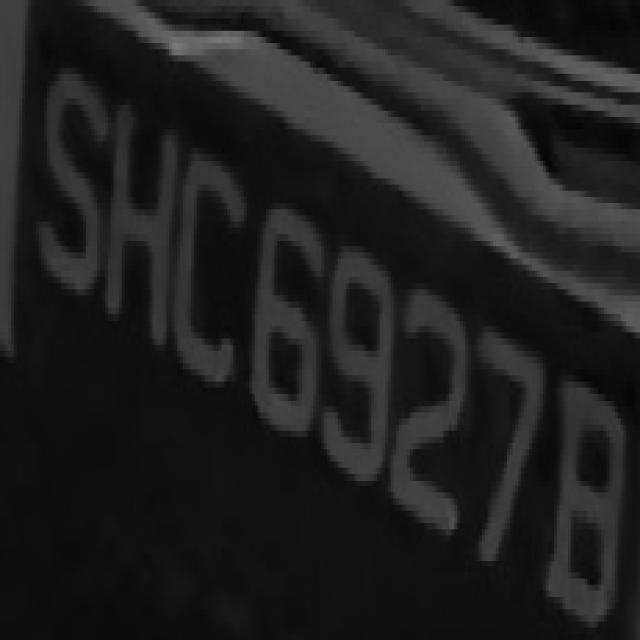2: (393, 252, 474, 560)
6: (250, 166, 322, 468)
7: (460, 314, 548, 591)
9: (316, 191, 396, 523)
B: (543, 338, 637, 640)
C: (172, 123, 246, 412)
H: (94, 74, 175, 369)
S: (44, 43, 111, 308)
